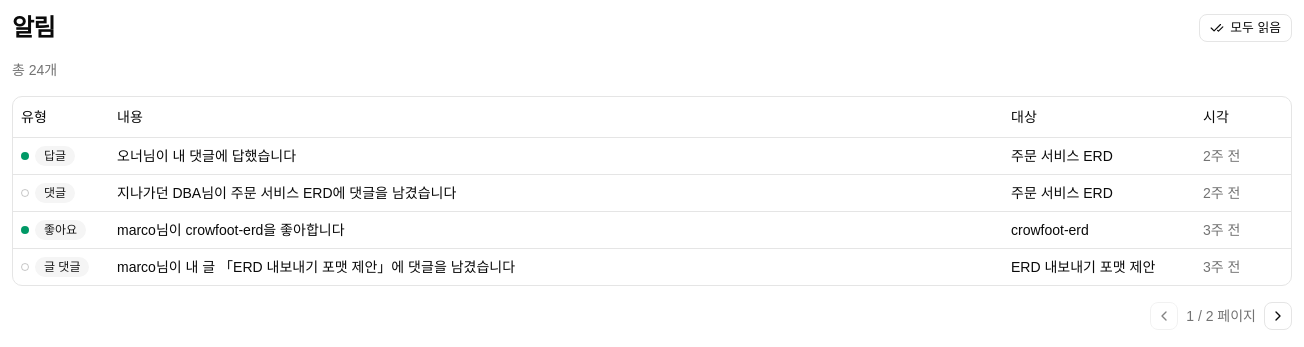
Test case: S-14 알림 › moves to the next page via the offset pager — URL ?page=로 정착
The width and height of the screenshot is (1304, 347).
Click the button named "다음". click: {"x": 1278, "y": 316}
box: [1264, 302, 1292, 330]
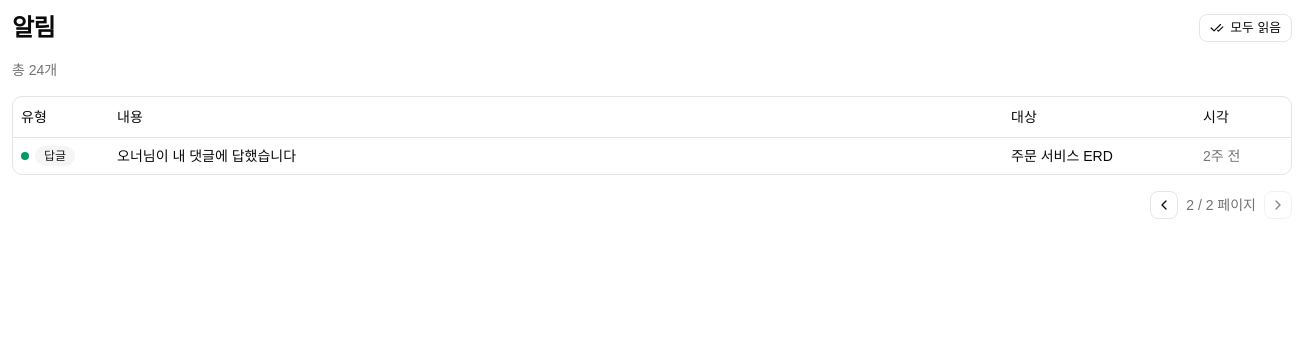
Now the text "2 / 2 페이지" is shown, box [1186, 194, 1256, 214]
